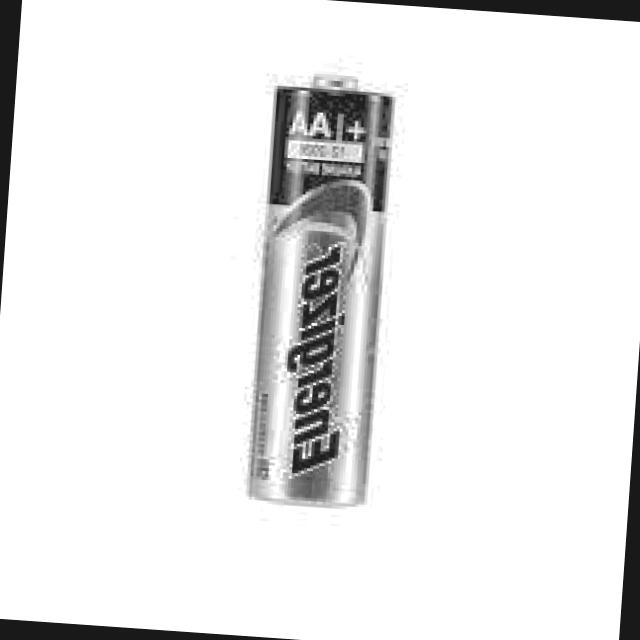Battery: (245, 73, 393, 504)
